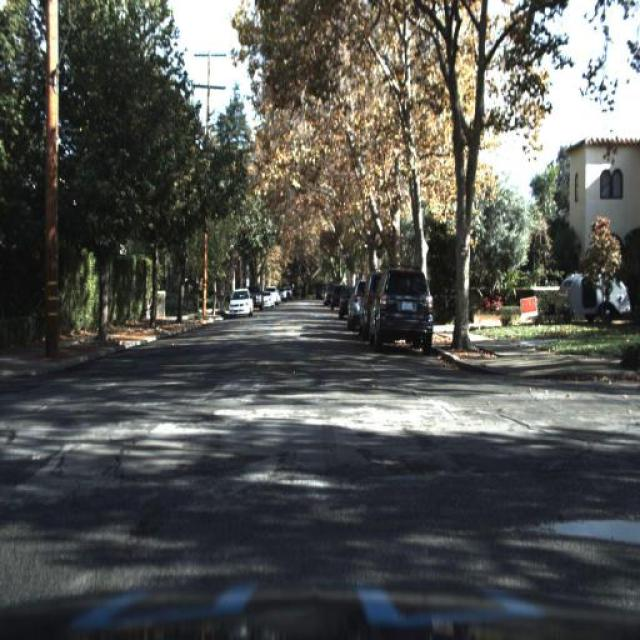car: (371, 263, 435, 356), (550, 262, 630, 326), (358, 268, 378, 346), (347, 273, 365, 333), (228, 287, 258, 317), (227, 286, 254, 318), (260, 290, 274, 311)
